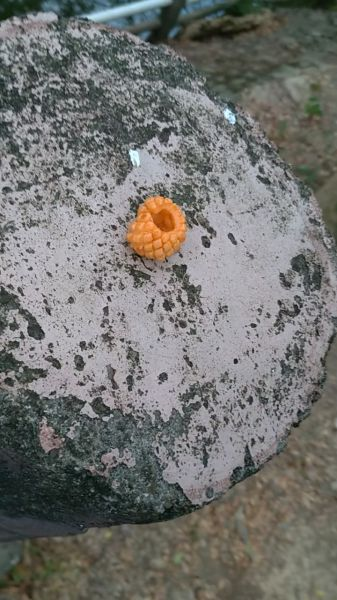eggs: (124, 192, 194, 263)
